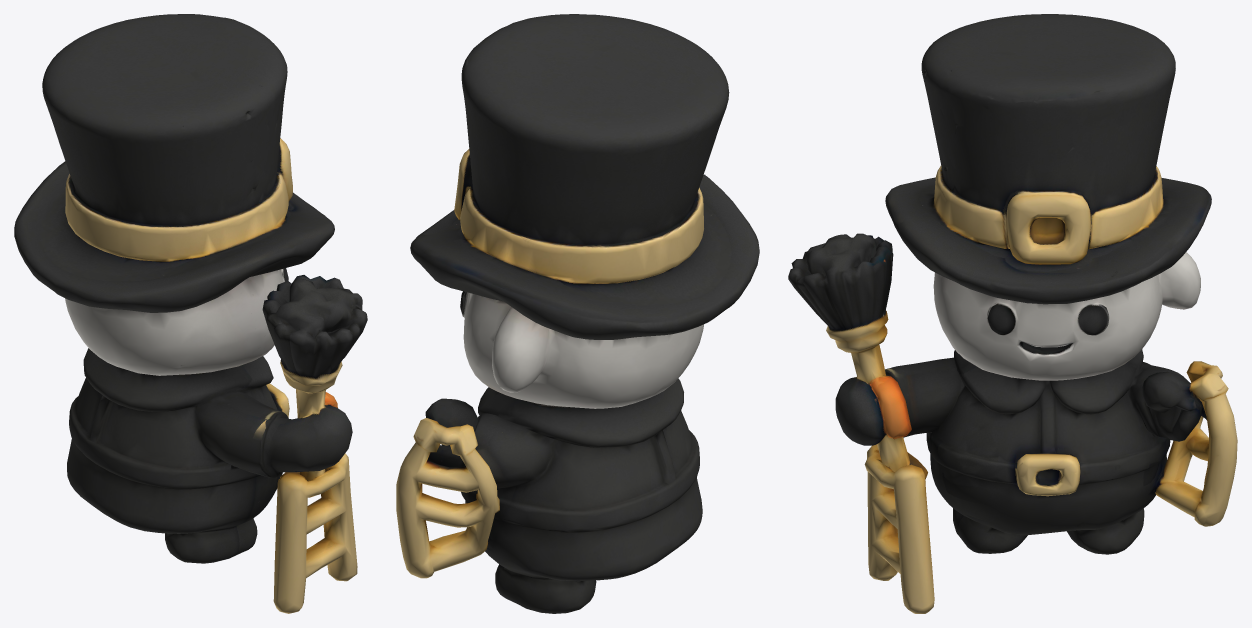
File: chimney_sweep.glb
3 renders of one model, left to right at view 1: azimuth 30°, elevation 25°; view 2: azimuth 150°, elevation 25°; view 3: azimuth 270°, elevation 25°, orthographic. The views are drawn at different scales.
Parts seen in each view (by area): view 1: tripo_node_69666b3a-ed9a-407c-a09d-8a2daaab6eda; view 2: tripo_node_69666b3a-ed9a-407c-a09d-8a2daaab6eda; view 3: tripo_node_69666b3a-ed9a-407c-a09d-8a2daaab6eda.
Boxes of the visible parts, box(x1,y1,x2,y2) form: tripo_node_69666b3a-ed9a-407c-a09d-8a2daaab6eda: box(14, 14, 367, 613); tripo_node_69666b3a-ed9a-407c-a09d-8a2daaab6eda: box(396, 14, 759, 613); tripo_node_69666b3a-ed9a-407c-a09d-8a2daaab6eda: box(788, 14, 1237, 613).
Size of the model in its own units: 0.523 by 0.9795 by 0.77.
1 material, 1 textured.
